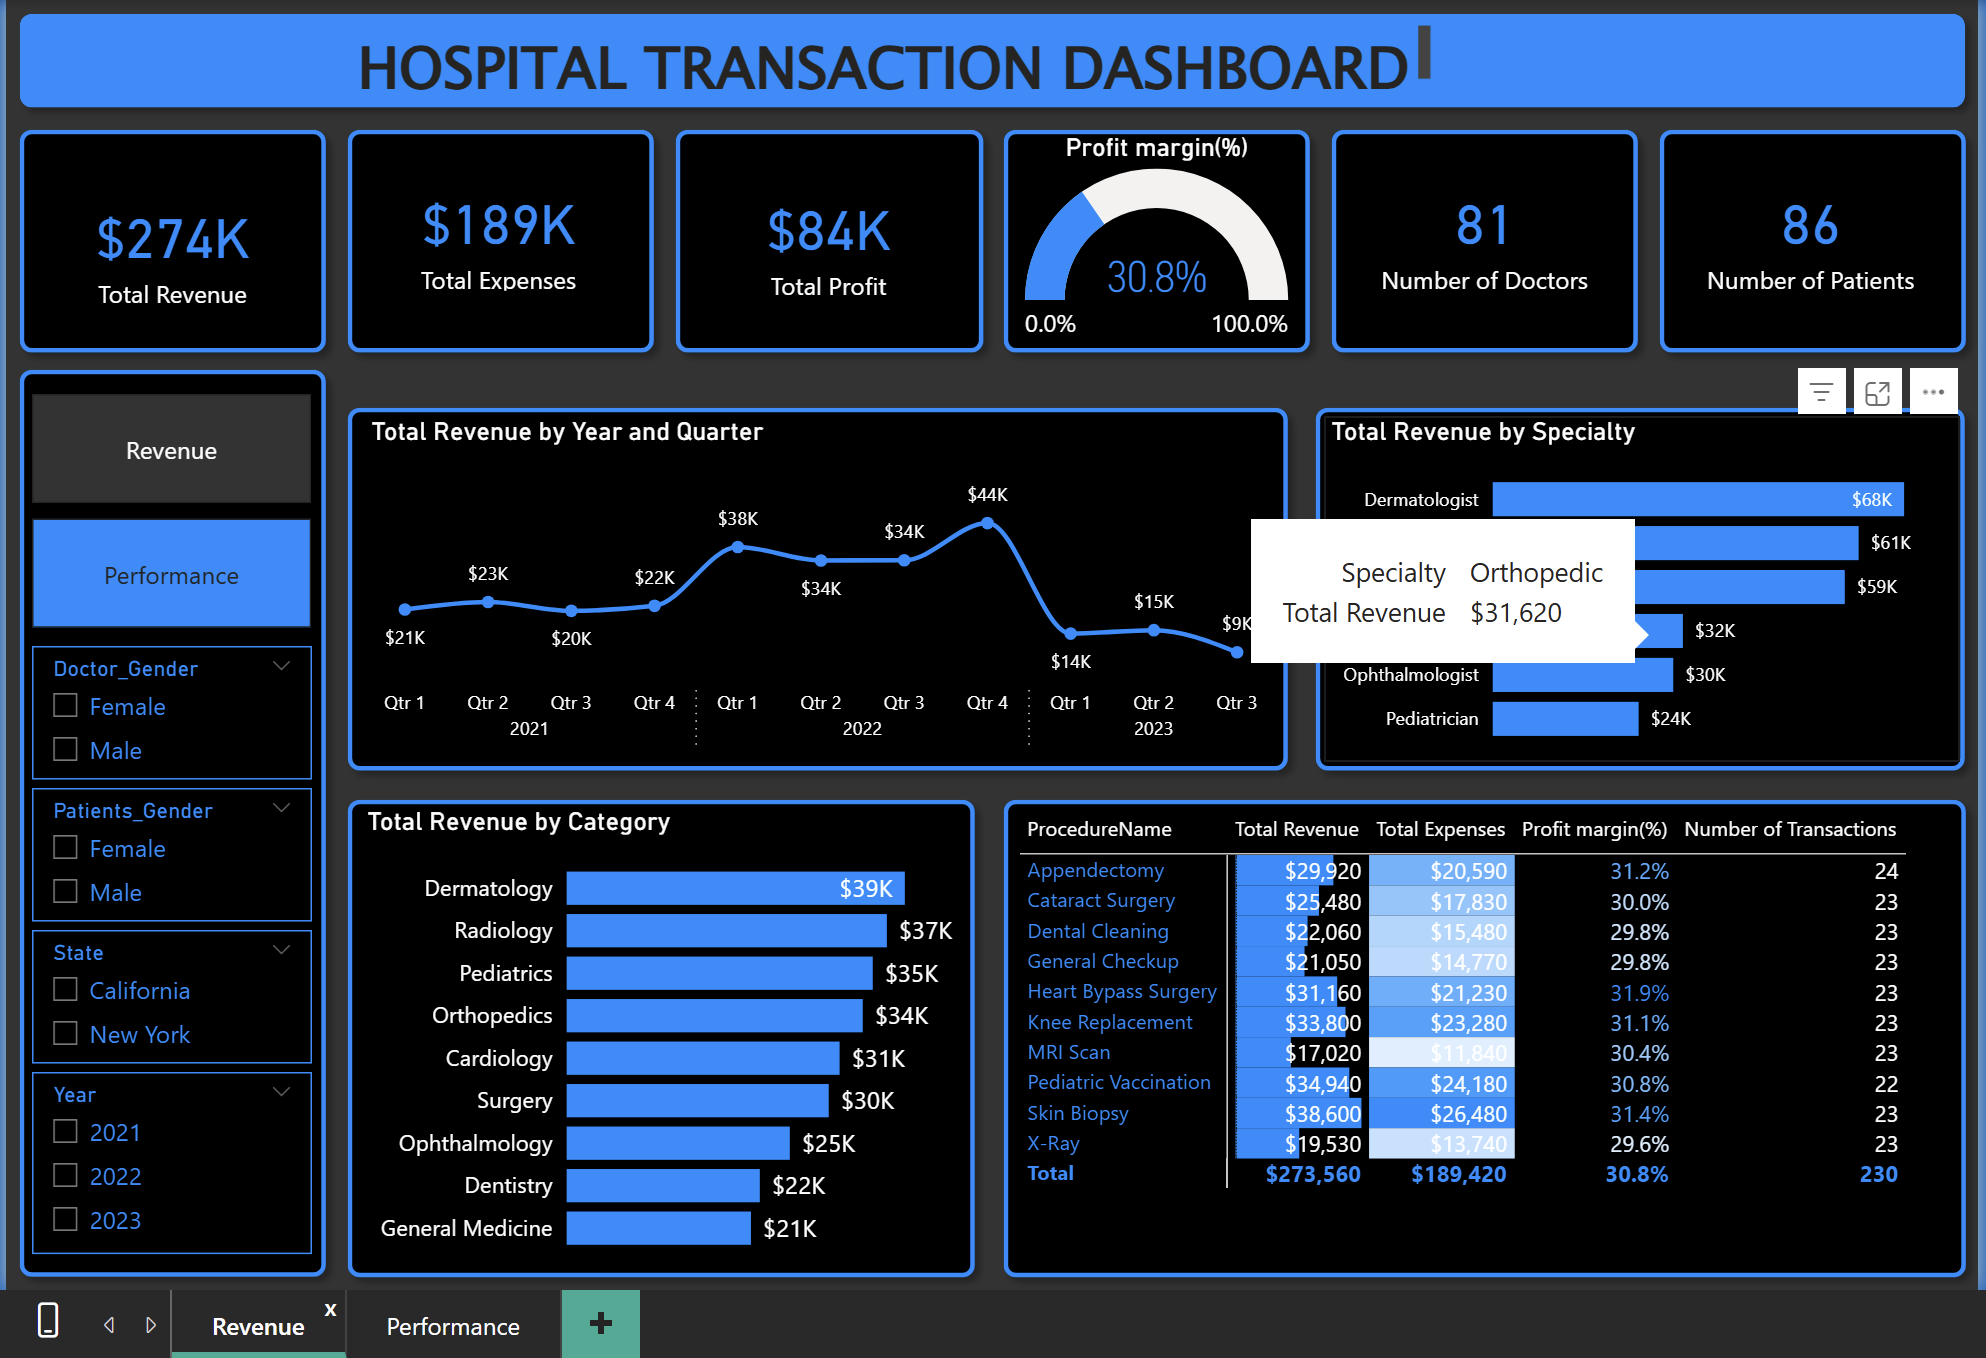

Layout of this report page (visuals, bound fields, positions):
{"tool":"powerbi","page":{"name":"Revenue","canvas":[1300,850],"ordinal":0},"visuals":[{"type":"shape","box":[0,0,1299.9,79.8],"z":0},{"type":"shape","box":[0,76.7,219.8,164.8],"z":1000},{"type":"shape","box":[215.8,76.7,219.8,164.8],"z":2000},{"type":"shape","box":[431.6,76.7,220.8,164.8],"z":3000},{"type":"shape","box":[648.5,76.7,219.8,164.8],"z":4000},{"type":"shape","box":[864.3,76.7,219.8,164.8],"z":5000},{"type":"shape","box":[1080.2,76.7,219.8,164.8],"z":6000},{"type":"shape","box":[0,234.3,219.8,615.7],"z":7000},{"type":"shape","box":[216.6,260.2,637.5,257.1],"z":8000},{"type":"shape","box":[854.1,260.2,445.7,257.1],"z":9000},{"type":"shape","box":[216.6,517.3,431.2,332.7],"z":10000},{"type":"shape","box":[647.9,517.3,652,332.7],"z":11000},{"type":"card","fields":{"Values":["Calculated Measure.Total Revenue"]},"box":[11.4,115.1,195.9,100.5],"z":12000},{"type":"card","fields":{"Values":["Calculated Measure.Total Expenses"]},"box":[227,115.1,195.9,81.9],"z":13000},{"type":"card","fields":{"Values":["Calculated Measure.Total Profit"]},"box":[443.7,118.2,195.9,81.9],"z":14000},{"type":"gauge","fields":{"Y":["Calculated Measure.Profit margin(%)"]},"box":[660.3,87.1,195.9,147.2],"z":15000},{"type":"card","fields":{"Values":["CountNonNull(Doctors Dim.DoctorID)"]},"box":[875.9,115.1,195.9,81.9],"z":16000},{"type":"card","fields":{"Values":["CountNonNull(Patients Dim.PatientID)"]},"box":[1091.5,115.1,195.9,81.9],"z":17000},{"type":"lineChart","fields":{"Y":["Calculated Measure.Total Revenue"],"Category":["Calendar Dim.Date.Variation.Date Hierarchy.Year","Calendar Dim.Date.Variation.Date Hierarchy.Quarter","Calendar Dim.Date.Variation.Date Hierarchy.Month"]},"box":[236.3,274.7,602.3,228],"z":18000},{"type":"clusteredBarChart","fields":{"Y":["Calculated Measure.Total Revenue"],"Category":["Doctors Dim.Specialty"]},"box":[868.7,274.7,418.8,228],"z":19000},{"type":"clusteredBarChart","fields":{"Y":["Calculated Measure.Total Revenue"],"Category":["Procedure Dim.Category"]},"box":[233.2,530.7,402.2,305.8],"z":20000},{"type":"pivotTable","fields":{"Rows":["Procedure Dim.ProcedureName"],"Values":["Calculated Measure.Total Revenue","Calculated Measure.Total Expenses","Calculated Measure.Profit margin(%)","CountNonNull(Hospital Transactions(Fact Table).TransactionID)"]},"box":[663.4,530.7,624,305.8],"z":21000},{"type":"slicer","fields":{"Values":["Doctors Dim.Doctor_Gender"]},"box":[17.6,425,184.5,88.1],"z":22000},{"type":"slicer","fields":{"Values":["Calendar Dim.Date.Variation.Date Hierarchy.Year"]},"box":[17.6,707,184.5,120.2],"z":23000},{"type":"slicer","fields":{"Values":["Location Dim.State"]},"box":[17.6,613,184.5,88.1],"z":24000},{"type":"slicer","fields":{"Values":["Patients Dim.Patients_Gender"]},"box":[17.6,519,184.5,88.1],"z":25000},{"type":"textbox","box":[219.8,11.4,723.5,54.9],"z":26000},{"type":"pageNavigator","box":[17.6,260.2,184.5,154.5],"z":26001}]}

Visuals, with their boxes on the page's 1300x850 design canvas (x1, y1, x2, y2). These are canvas units, not pixel positions in the 1986x1358 screenshot, which may show the page scaled, cropped or inside an application window:
shape: l=0, t=0, r=1300, b=80
shape: l=0, t=77, r=220, b=242
shape: l=216, t=77, r=436, b=242
shape: l=432, t=77, r=652, b=242
shape: l=648, t=77, r=868, b=242
shape: l=864, t=77, r=1084, b=242
shape: l=1080, t=77, r=1300, b=242
shape: l=0, t=234, r=220, b=850
shape: l=217, t=260, r=854, b=517
shape: l=854, t=260, r=1300, b=517
shape: l=217, t=517, r=648, b=850
shape: l=648, t=517, r=1300, b=850
card - Calculated Measure.Total Revenue: l=11, t=115, r=207, b=216
card - Calculated Measure.Total Expenses: l=227, t=115, r=423, b=197
card - Calculated Measure.Total Profit: l=444, t=118, r=640, b=200
gauge - Calculated Measure.Profit margin(%): l=660, t=87, r=856, b=234
card - CountNonNull(Doctors Dim.DoctorID): l=876, t=115, r=1072, b=197
card - CountNonNull(Patients Dim.PatientID): l=1092, t=115, r=1287, b=197
lineChart - Calculated Measure.Total Revenue x Calendar Dim.Date.Variation.Date Hierarchy.Year: l=236, t=275, r=839, b=503
clusteredBarChart - Calculated Measure.Total Revenue x Doctors Dim.Specialty: l=869, t=275, r=1288, b=503
clusteredBarChart - Calculated Measure.Total Revenue x Procedure Dim.Category: l=233, t=531, r=635, b=836
pivotTable - Procedure Dim.ProcedureName x Calculated Measure.Total Revenue: l=663, t=531, r=1287, b=836
slicer - Doctors Dim.Doctor_Gender: l=18, t=425, r=202, b=513
slicer - Calendar Dim.Date.Variation.Date Hierarchy.Year: l=18, t=707, r=202, b=827
slicer - Location Dim.State: l=18, t=613, r=202, b=701
slicer - Patients Dim.Patients_Gender: l=18, t=519, r=202, b=607
textbox: l=220, t=11, r=943, b=66
pageNavigator: l=18, t=260, r=202, b=415
